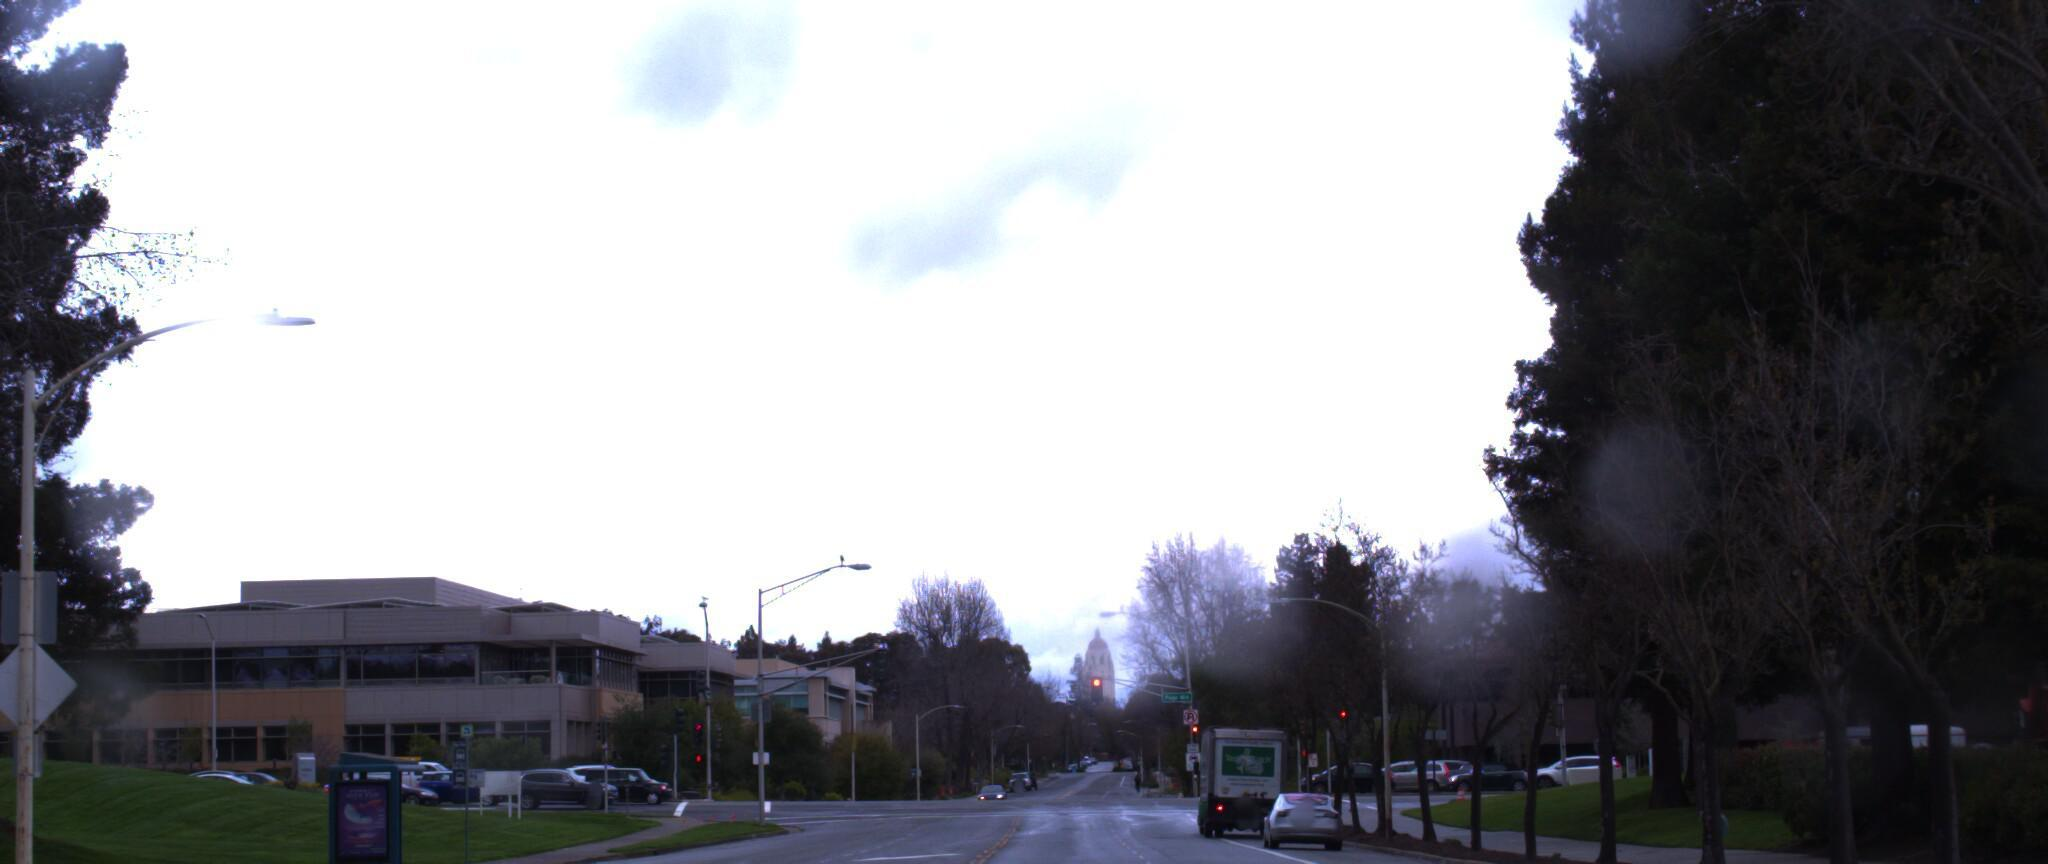car: (1260, 794, 1337, 857)
